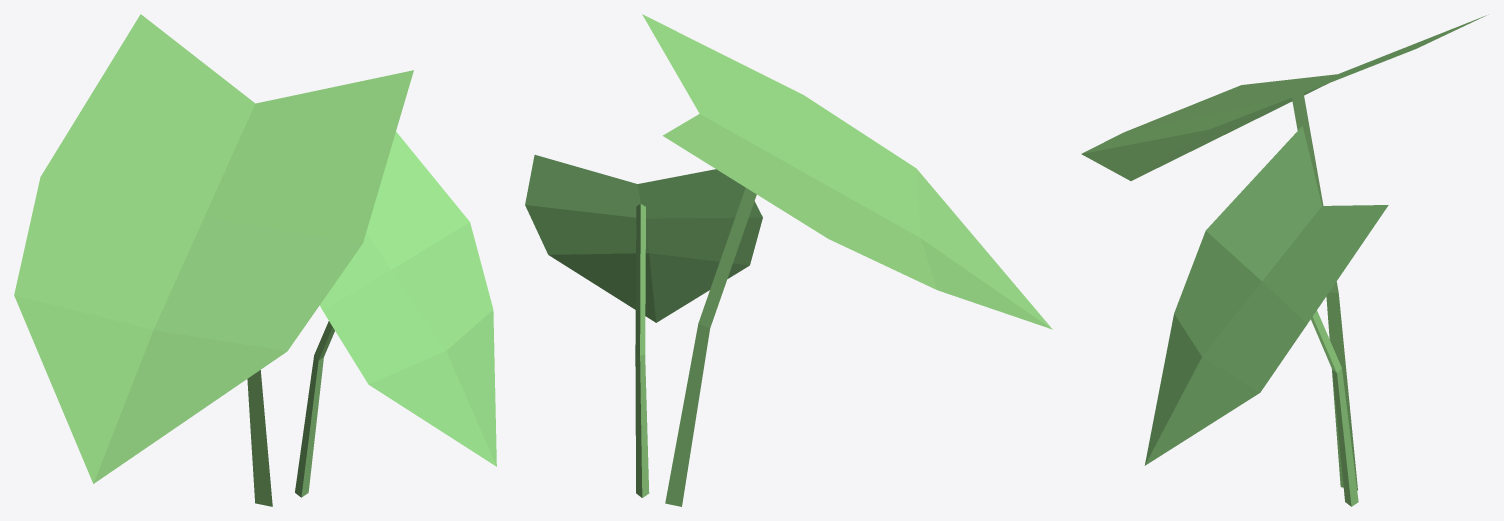
The model's file is Plant_c_OneS_02.fbx.
3 renders of one model, left to right at view 1: azimuth 30°, elevation 25°; view 2: azimuth 150°, elevation 25°; view 3: azimuth 270°, elevation 25°, orthographic. The views are drawn at different scales.
Visible parts, largest first — view 1: Plant_c_OneS_02; view 2: Plant_c_OneS_02; view 3: Plant_c_OneS_02.
Part boxes in pixels (x1,y1,x2,y2): Plant_c_OneS_02: (14, 14, 496, 506); Plant_c_OneS_02: (525, 14, 1052, 506); Plant_c_OneS_02: (1081, 14, 1488, 506).
Size of the model in its own units: 56.1 by 51.93 by 43.16.
